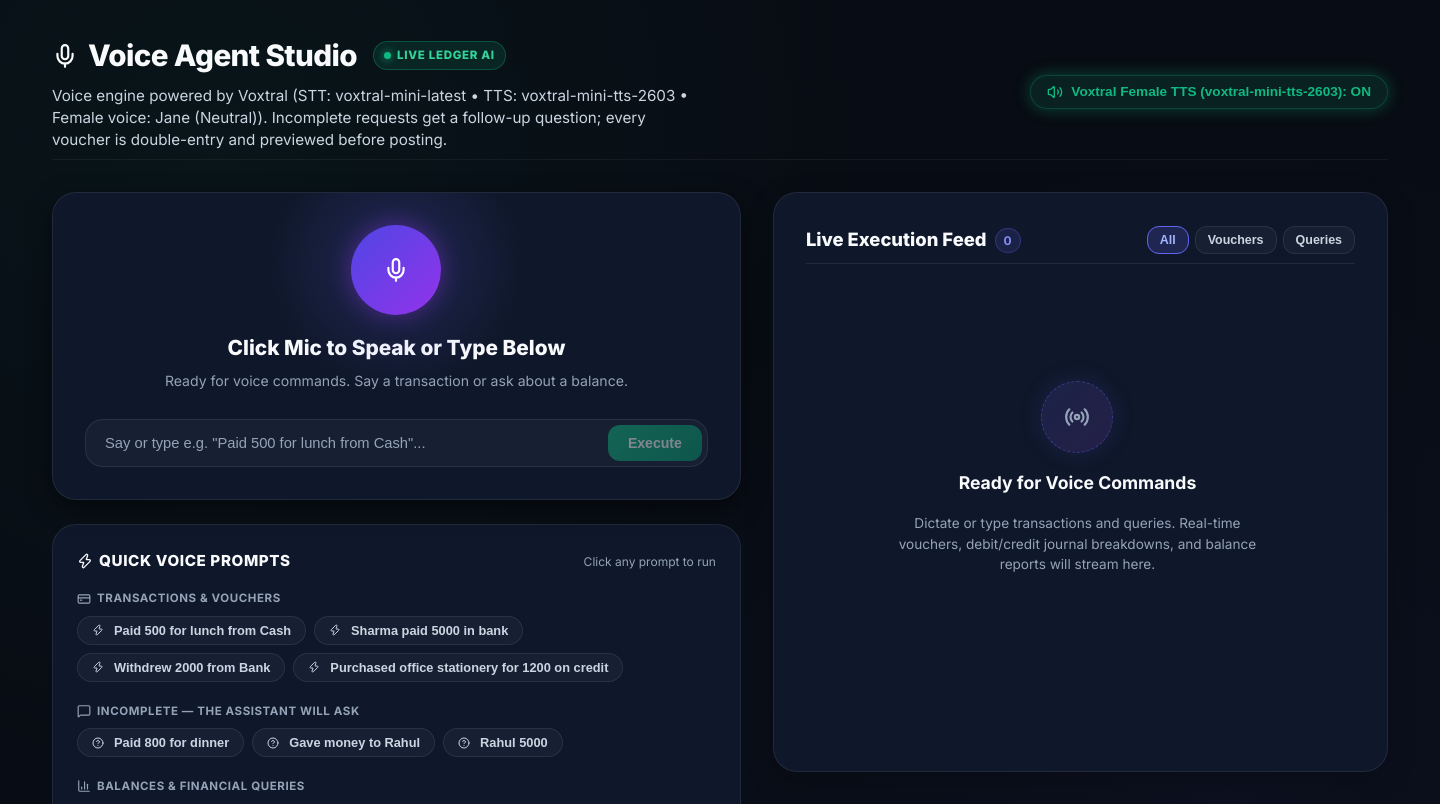
Test: UI: VoiceAgentModal & Studio Components › shows the open question with options in the Voice Studio cockpit
The image size is (1440, 804).
Type "Paid 500 for lunch" into the field with placeholder "Say or type e.g. \"Paid 500 for lunch from Cash\"...". click: x=347, y=443
box: left=91, top=425, right=604, bottom=461
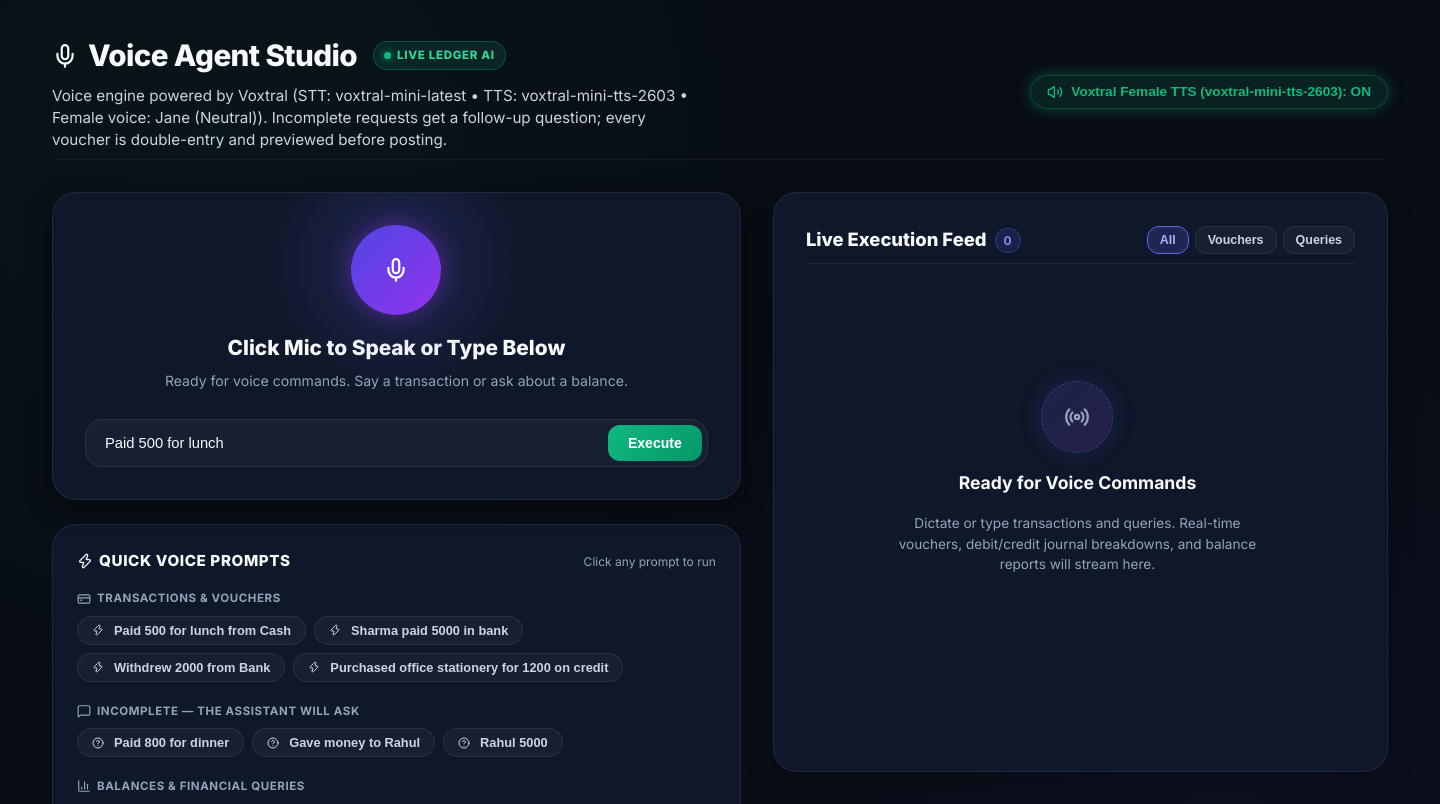
Click the button "Execute". click: x=655, y=443
box: left=608, top=425, right=702, bottom=461
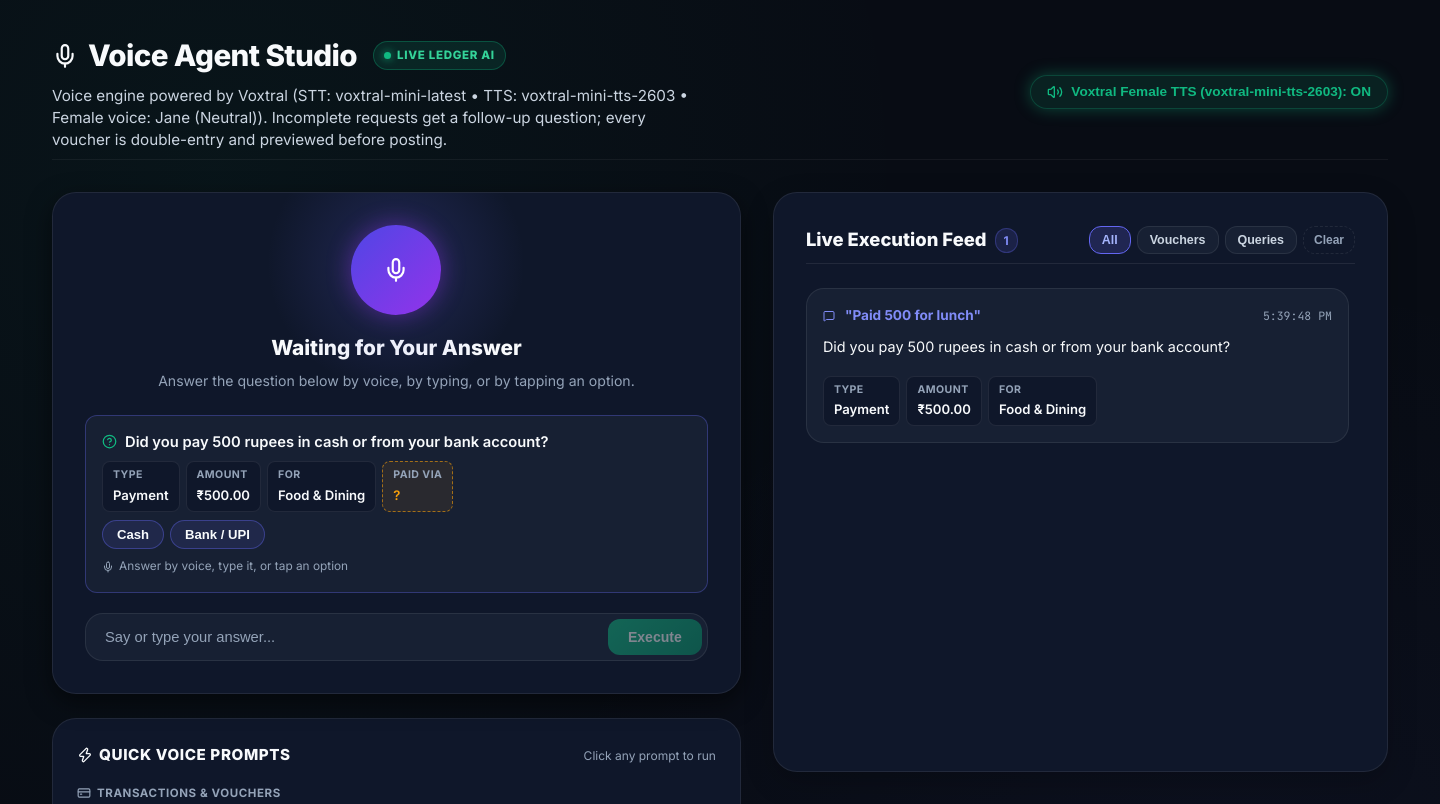
Now the text "Did you pay 500 rupees in cash or from your bank account?" is shown 2 times, box left=125, top=432, right=548, bottom=453; left=823, top=338, right=1230, bottom=355
Now the button "Bank / UPI" is shown, box left=170, top=520, right=265, bottom=549
